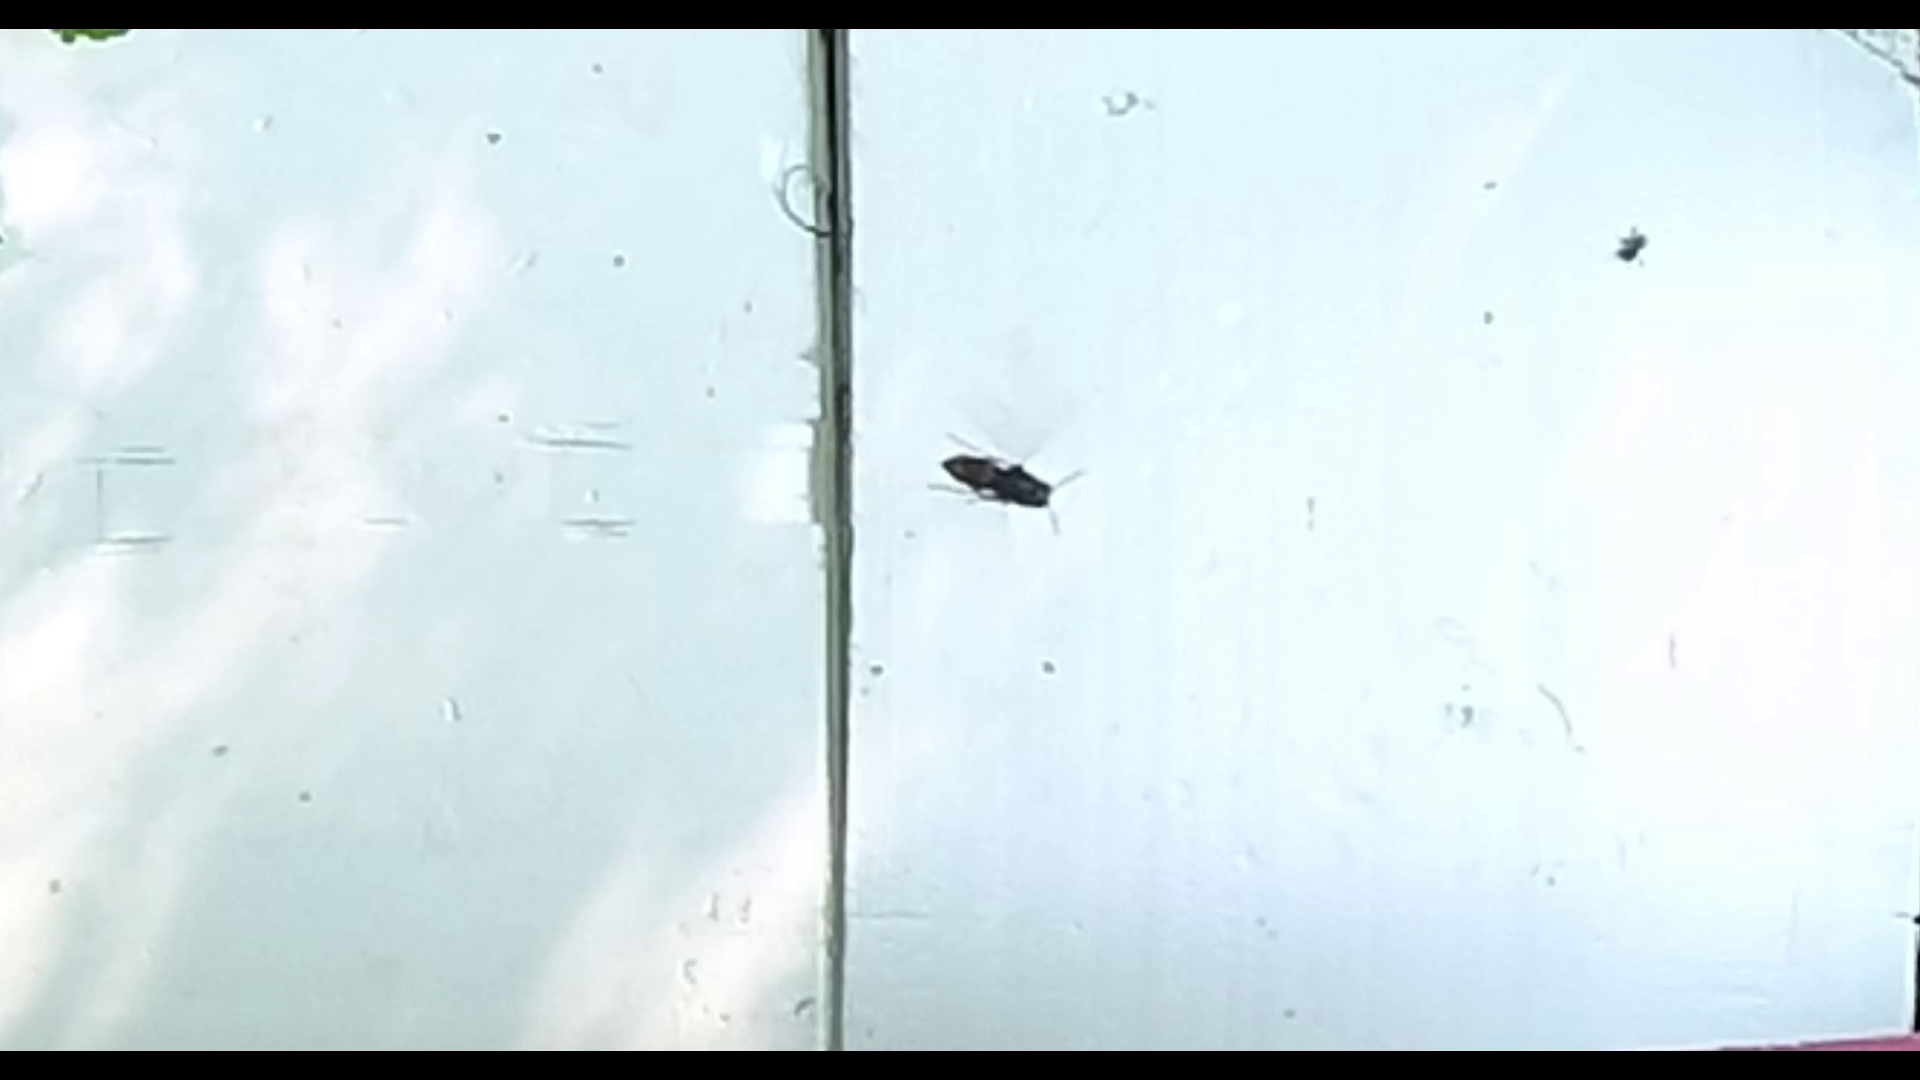Asian_hornets: (910, 407, 1097, 551)
